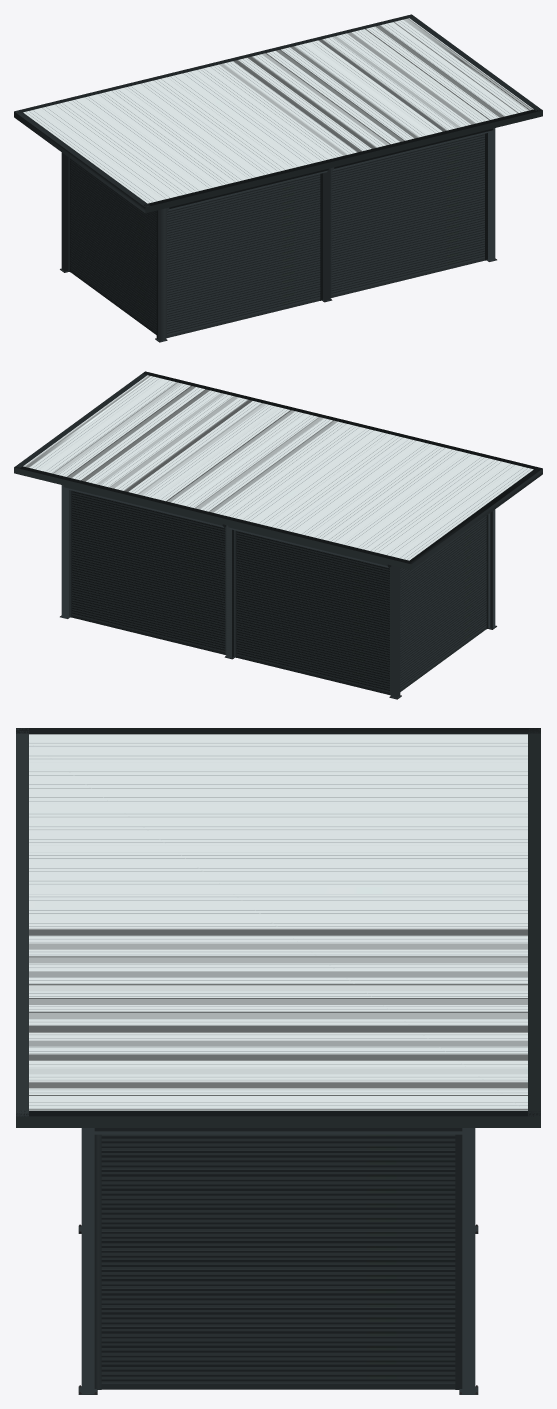
3 renders of one model, top to bottom at view 1: azimuth 30°, elevation 25°; view 2: azimuth 150°, elevation 25°; view 3: azimuth 270°, elevation 25°, orthographic. The views are drawn at different scales.
Visible parts, largest first — view 1: priximbattable_net_pergola_aluminium_29276_carport_aluminium, volet4_1, volet4, lame_13, lame_17, lame_15, lame_9, lame_7, lame_6, lame_2, lame_15_3, lame_13_3 (+45 smaller); view 2: priximbattable_net_pergola_aluminium_29276_carport_aluminium, volet3_1, volet3, lame_13_2, lame_17_2, lame_15_2, lame_9_2, lame_7_2, lame_6_2, lame_2_2, lame_15_4, lame_13_4 (+45 smaller); view 3: priximbattable_net_pergola_aluminium_29276_carport_aluminium, volet1, lame_16_6, lame_13_6, lame_9_6, lame_5_7, lame_2_7, lame_17_6, lame_15_6, lame_14_6, lame_12_6, lame_11_6 (+9 smaller).
Boxes of the visible parts, left/top/right/bottom form: priximbattable_net_pergola_aluminium_29276_carport_aluminium: left=14, top=14, right=542, bottom=342; volet4_1: left=330, top=128, right=493, bottom=298; volet4: left=165, top=168, right=328, bottom=338; lame_13: left=331, top=222, right=484, bottom=266; lame_17: left=331, top=250, right=484, bottom=294; lame_15: left=331, top=236, right=484, bottom=280; lame_9: left=331, top=193, right=484, bottom=237; lame_7: left=331, top=179, right=484, bottom=223; lame_6: left=331, top=172, right=484, bottom=216; lame_2: left=331, top=143, right=484, bottom=187; lame_15_3: left=167, top=276, right=320, bottom=320; lame_13_3: left=167, top=262, right=320, bottom=306; priximbattable_net_pergola_aluminium_29276_carport_aluminium: left=14, top=371, right=542, bottom=699; volet3_1: left=63, top=485, right=226, bottom=655; volet3: left=228, top=525, right=391, bottom=695; lame_13_2: left=72, top=579, right=225, bottom=623; lame_17_2: left=72, top=607, right=225, bottom=651; lame_15_2: left=72, top=593, right=225, bottom=637; lame_9_2: left=72, top=550, right=225, bottom=594; lame_7_2: left=72, top=536, right=225, bottom=580; lame_6_2: left=72, top=529, right=225, bottom=573; lame_2_2: left=72, top=500, right=225, bottom=544; lame_15_4: left=236, top=633, right=389, bottom=677; lame_13_4: left=236, top=619, right=389, bottom=663; priximbattable_net_pergola_aluminium_29276_carport_aluminium: left=16, top=728, right=540, bottom=1394; volet1: left=94, top=1128, right=462, bottom=1389; lame_16_6: left=101, top=1355, right=455, bottom=1369; lame_13_6: left=101, top=1312, right=455, bottom=1326; lame_9_6: left=101, top=1255, right=455, bottom=1269; lame_5_7: left=101, top=1198, right=455, bottom=1212; lame_2_7: left=101, top=1155, right=455, bottom=1169; lame_17_6: left=101, top=1369, right=455, bottom=1383; lame_15_6: left=101, top=1341, right=455, bottom=1355; lame_14_6: left=101, top=1326, right=455, bottom=1340; lame_12_6: left=101, top=1298, right=455, bottom=1312; lame_11_6: left=101, top=1284, right=455, bottom=1298.
Bounding box in the file's own units: 700 × 259 × 400.
1 material, 1 textured.
